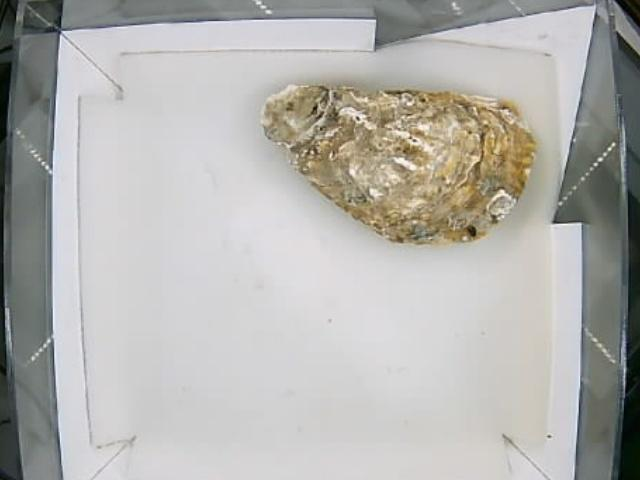Shell: (260, 83, 536, 247)
